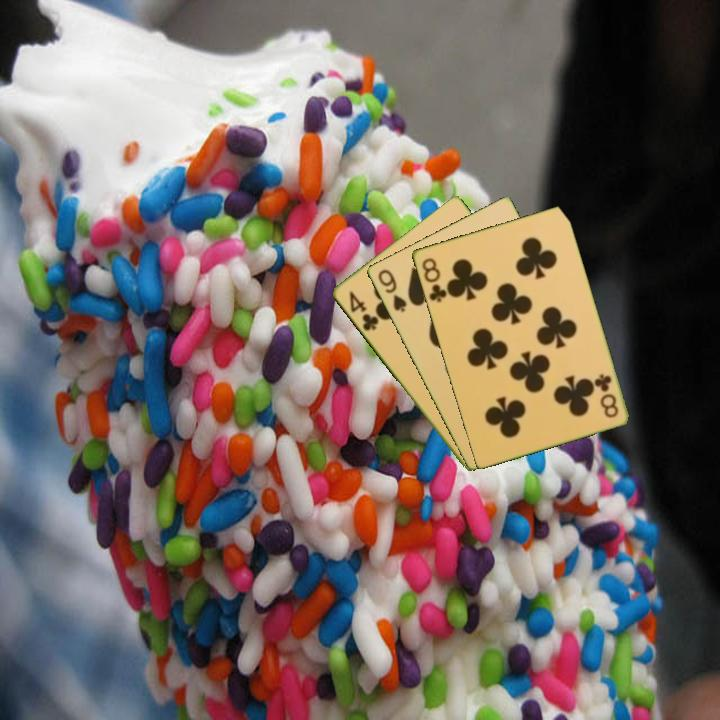4c: (345, 287, 381, 334)
8c: (418, 254, 449, 305), (591, 370, 621, 420)
9s: (374, 266, 409, 315)
